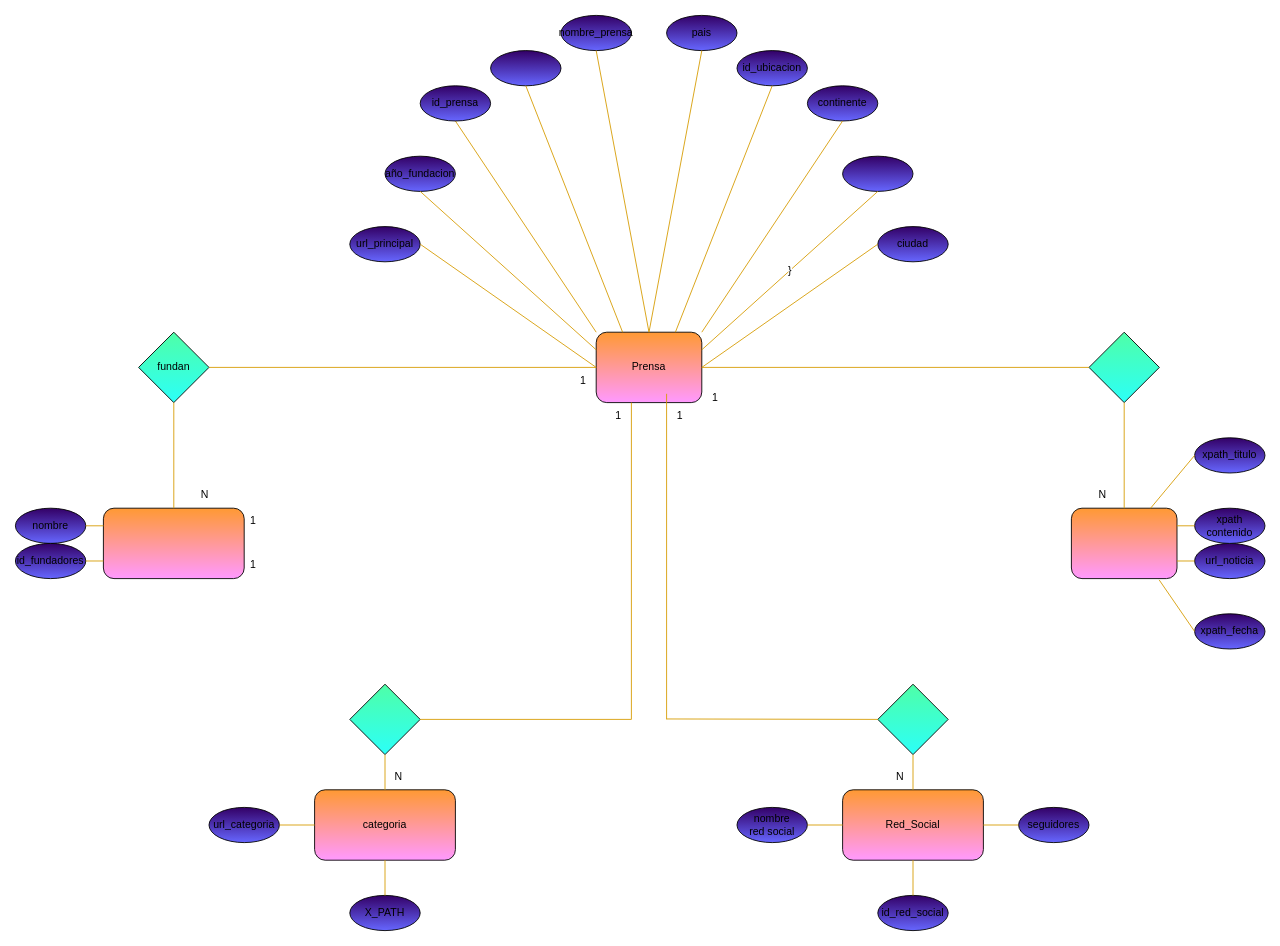
This 1280x946 diagram has some shape labels left out. The shapes that lost their labels are listed below. From the top down, each one's centre as x and y in pixels, then its label:
point (525, 68): tipo_cobertura
point (877, 173): region
point (1123, 367): publican
point (173, 543): Fundadores
point (1124, 543): Noticia
point (384, 719): contiene
point (912, 719): Manejan
